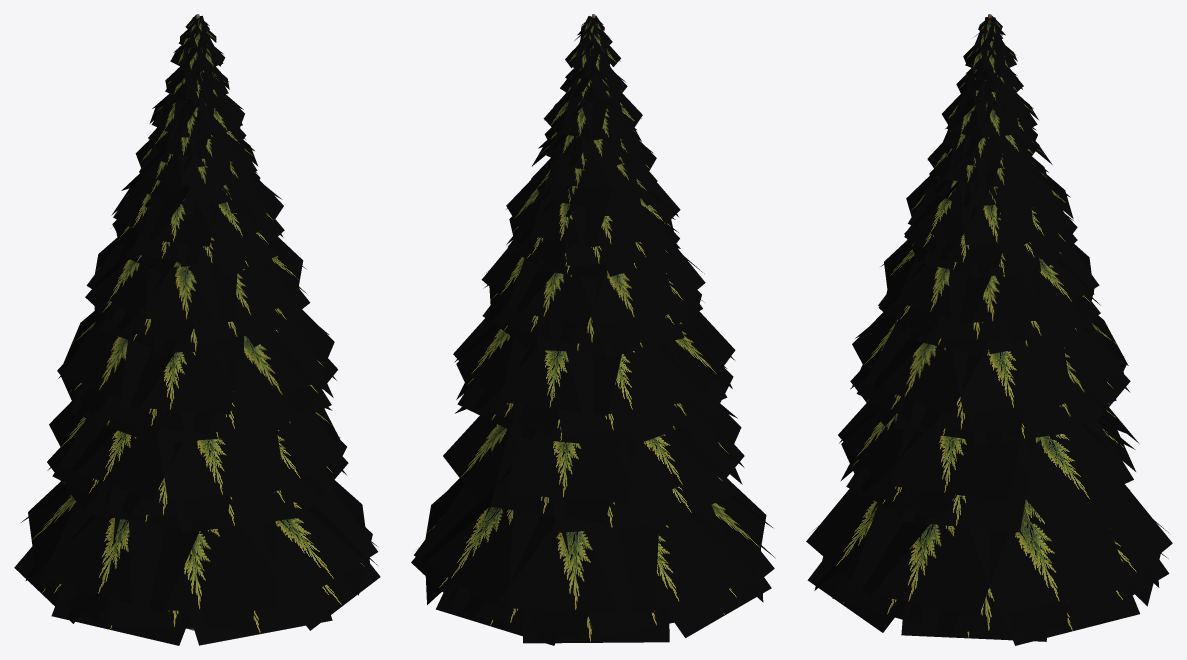
File: MS_Tree_1.fbx
3 views of the same model, side by side, from view 1: azimuth 30°, elevation 25°; view 2: azimuth 150°, elevation 25°; view 3: azimuth 270°, elevation 25° (orthographic).
Parts seen in each view (by area): view 1: Cylinder; view 2: Cylinder; view 3: Cylinder.
Boxes of the visible parts, x1,y1,x2,y2 form: Cylinder: [14, 14, 380, 645]; Cylinder: [411, 14, 775, 645]; Cylinder: [806, 14, 1172, 645].
Size of the model in its own units: 218 by 400 by 218.
